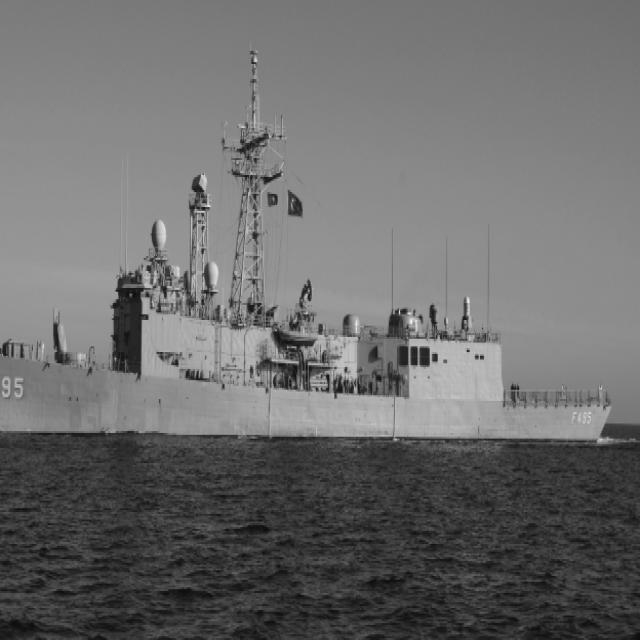Fragata: (1, 40, 614, 449)
